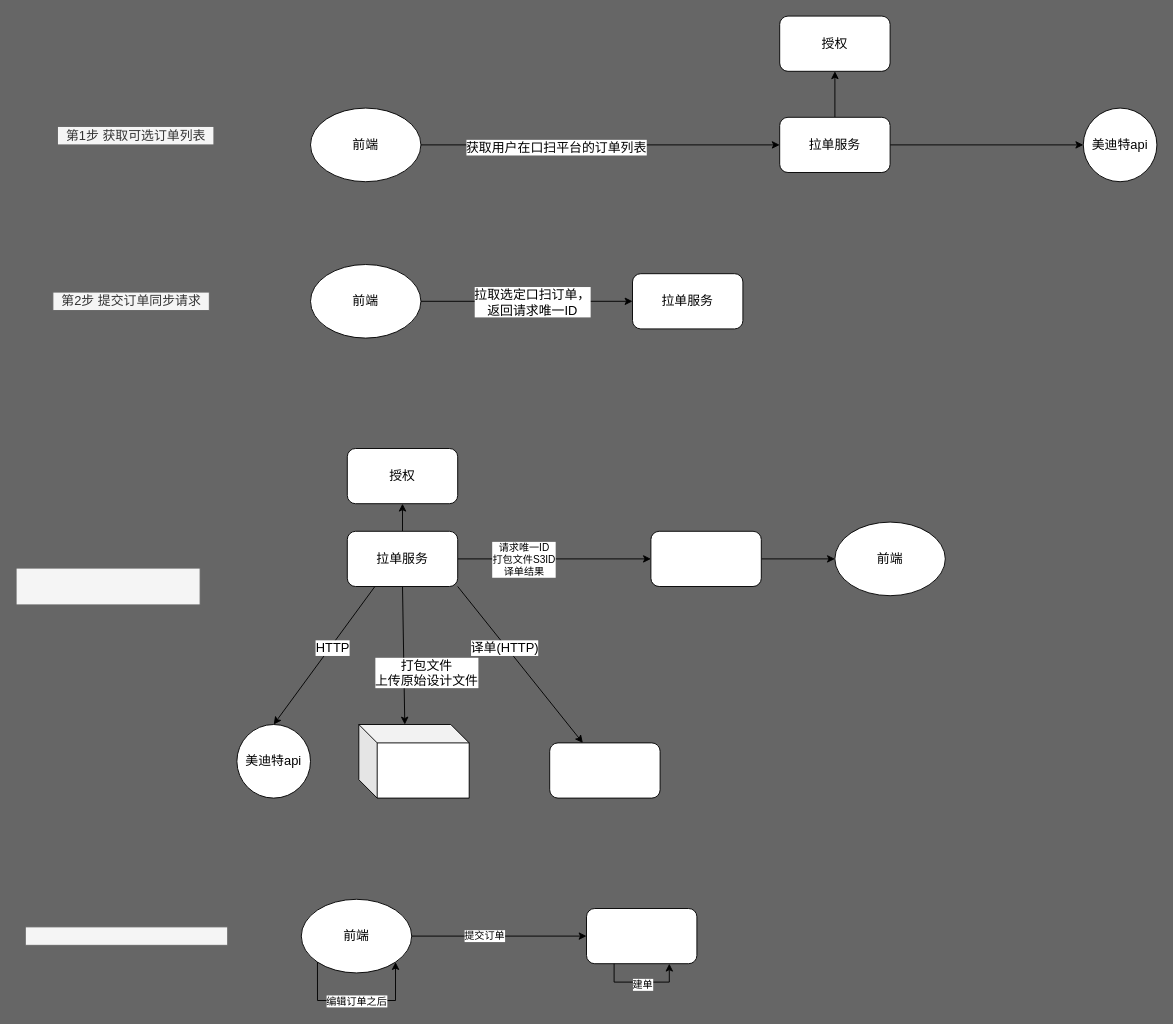
This 1173x1024 diagram has some shape labels left out. Each missing label, with the box of its shape:
S3: (358, 724, 469, 798)
第3步 异步返回订单译单结果 和S3fileID: (15, 567, 200, 605)
第4步 提交订单(同普通建单一样): (24, 926, 228, 945)
订单文档翻译服务: (549, 742, 660, 798)
设计服务: (586, 908, 697, 964)
通知服务: (650, 530, 761, 586)
